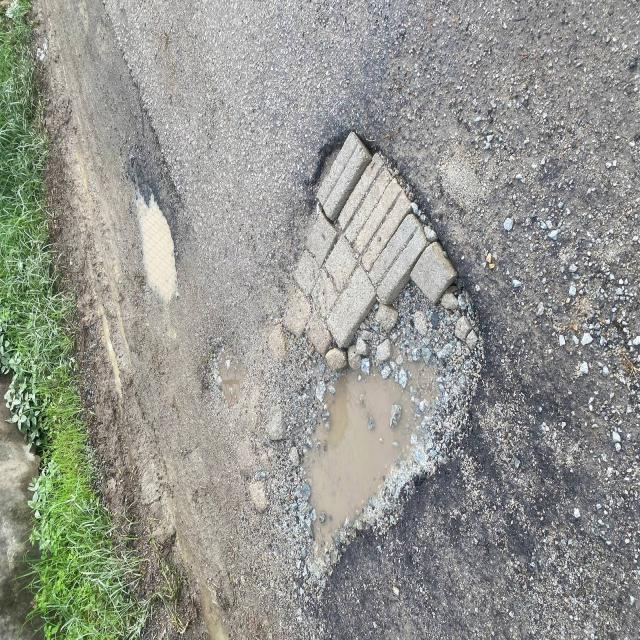Pothole: (247, 80, 579, 599), (103, 112, 214, 340)
